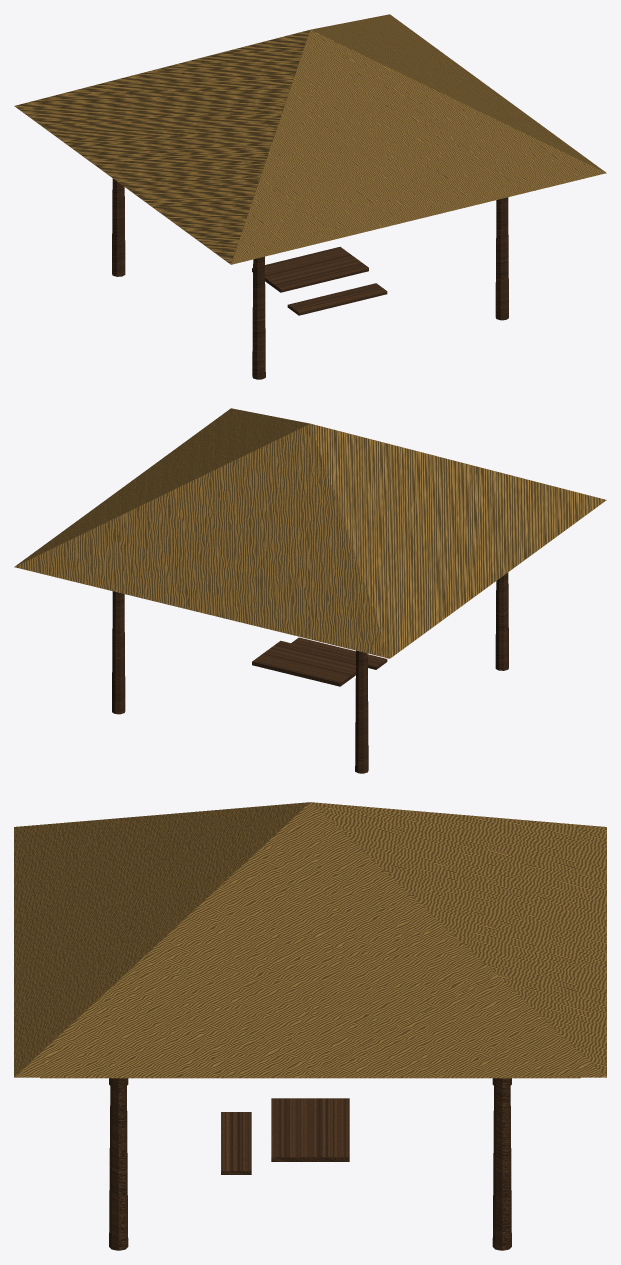
Rendered from palapa.obj.
The picture shows the model from 3 angles, top to bottom: view 1: azimuth 30°, elevation 25°; view 2: azimuth 150°, elevation 25°; view 3: azimuth 270°, elevation 25°; orthographic projection. The views are drawn at different scales.
Visible parts, largest first — view 1: palapa; view 2: palapa; view 3: palapa.
Part boxes in pixels (left/top/right/bottom): palapa: left=14, top=14, right=606, bottom=379; palapa: left=14, top=408, right=606, bottom=773; palapa: left=14, top=802, right=606, bottom=1250.
Bounding box in the file's own units: 6.8 × 4.6 × 6.8.
2 materials, 2 textured.
